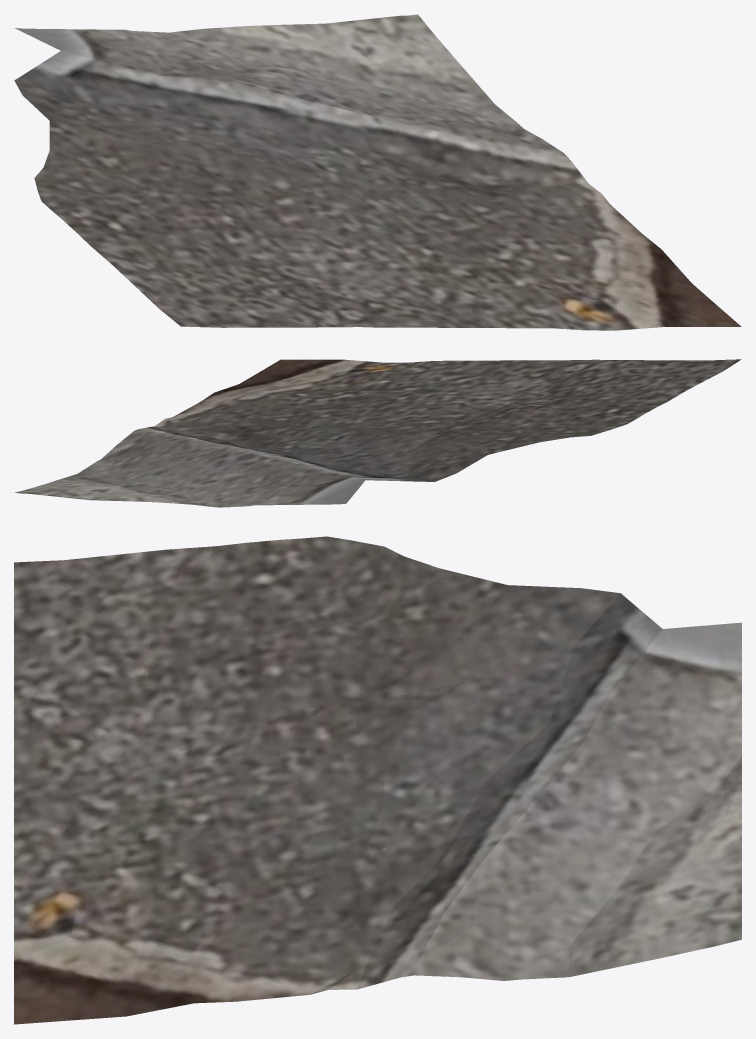
The picture shows the model from 3 angles, top to bottom: view 1: azimuth 30°, elevation 25°; view 2: azimuth 150°, elevation 25°; view 3: azimuth 270°, elevation 25°; orthographic projection. The views are drawn at different scales.
Size of the model in its own units: 0.8373 by 0.229 by 0.8374.
Materials: 2 (2 with a texture image).
